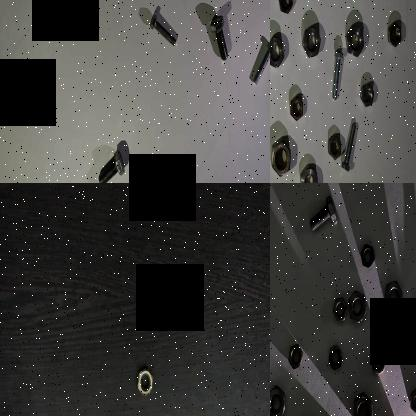Bolts: (308, 188, 338, 236), (146, 6, 178, 50), (209, 3, 230, 65), (247, 35, 270, 87), (96, 144, 125, 183), (340, 119, 358, 172), (328, 44, 343, 103), (407, 300, 416, 361)
NUTS: (135, 353, 156, 400), (270, 136, 292, 178), (344, 21, 368, 55), (300, 24, 322, 60), (348, 288, 370, 324), (384, 274, 402, 314), (386, 14, 404, 48), (324, 130, 344, 160), (353, 389, 375, 416), (270, 382, 287, 416), (330, 292, 347, 326), (270, 32, 285, 70), (286, 94, 306, 120), (370, 344, 386, 376), (358, 78, 376, 106), (326, 344, 344, 372), (286, 342, 304, 368), (360, 242, 376, 270), (299, 164, 317, 183), (276, 0, 294, 16), (407, 388, 416, 414)
